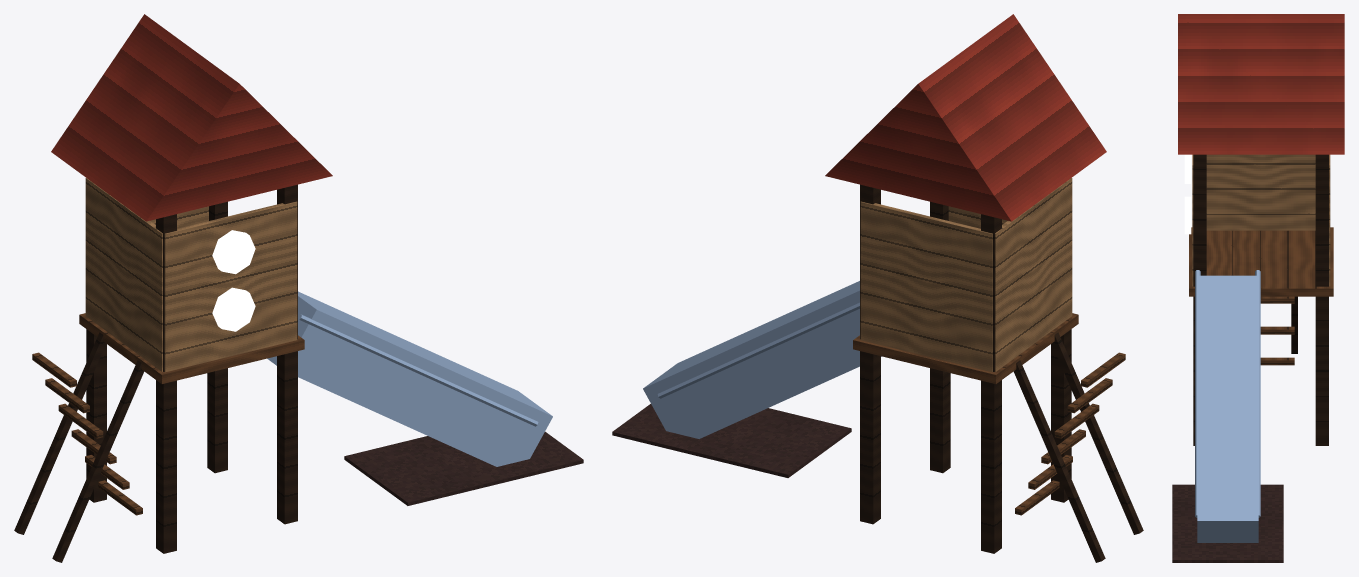
The model's file is playground_tower.glb.
3 views of the same model, side by side, from view 1: azimuth 30°, elevation 25°; view 2: azimuth 150°, elevation 25°; view 3: azimuth 270°, elevation 25° (orthographic). The views are drawn at different scales.
Visible parts, largest first — view 1: playground_tower; view 2: playground_tower; view 3: playground_tower.
Boxes of the visible parts, bbox=[...] form: playground_tower: bbox=[14, 14, 583, 562]; playground_tower: bbox=[612, 14, 1143, 562]; playground_tower: bbox=[1172, 14, 1344, 562].
Size of what is drawn, in the model's own units: 4.53 by 4.11 by 1.55.
Materials: 7 (5 with a texture image).
